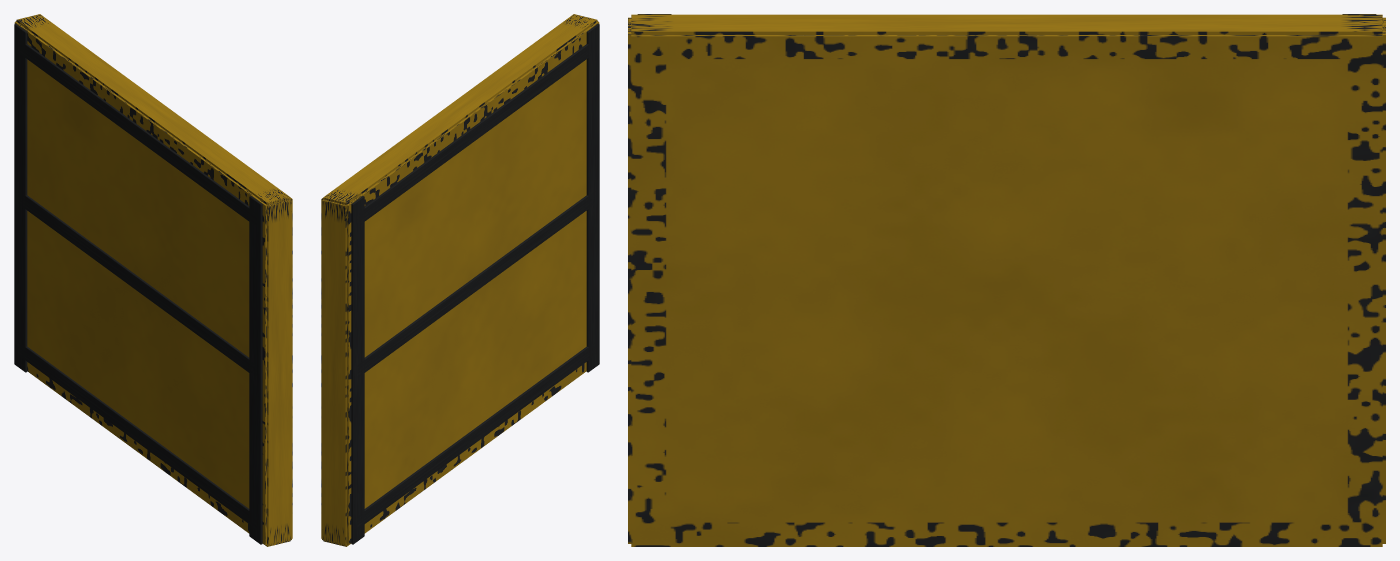
Rendered from RailPlatformGate.fbx.
The picture shows the model from 3 angles, left to right: view 1: azimuth 30°, elevation 25°; view 2: azimuth 150°, elevation 25°; view 3: azimuth 270°, elevation 25°; orthographic projection. The views are drawn at different scales.
Parts seen in each view (by area): view 1: RailPlatformGate.001; view 2: RailPlatformGate.001; view 3: RailPlatformGate.001.
Part boxes in pixels (x1,y1,x2,y2): RailPlatformGate.001: (14, 14, 292, 546); RailPlatformGate.001: (321, 14, 599, 546); RailPlatformGate.001: (628, 14, 1385, 546).
Bounding box in the file's own units: 0.275 × 3 × 4.
